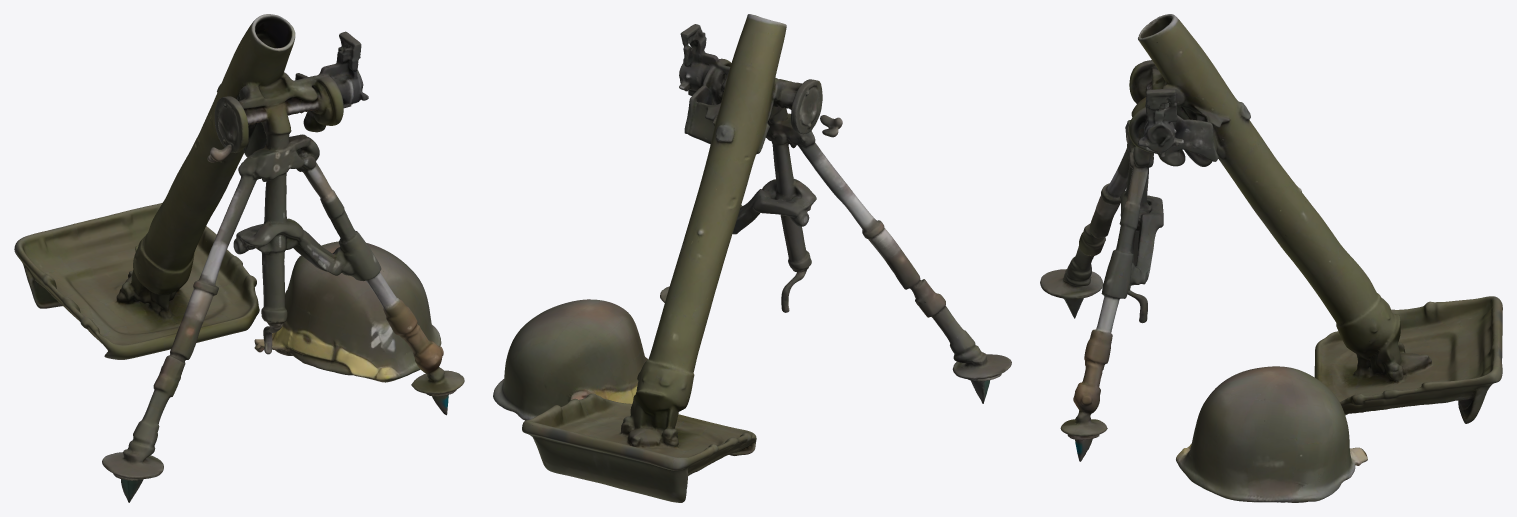
The model's file is 60mm Mortar.glb.
The picture shows the model from 3 angles, left to right: view 1: azimuth 30°, elevation 25°; view 2: azimuth 150°, elevation 25°; view 3: azimuth 270°, elevation 25°; orthographic projection. The views are drawn at different scales.
Size of the model in its own units: 2 by 1.82 by 1.96.
Materials: 1 (1 with a texture image).
